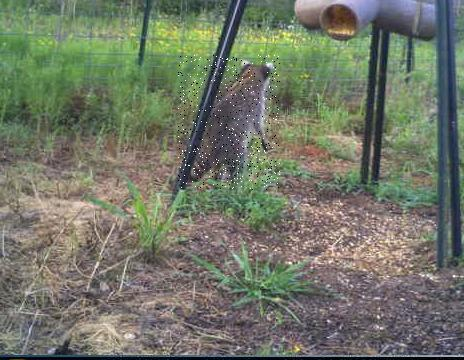Raccoon: (178, 55, 280, 190)
